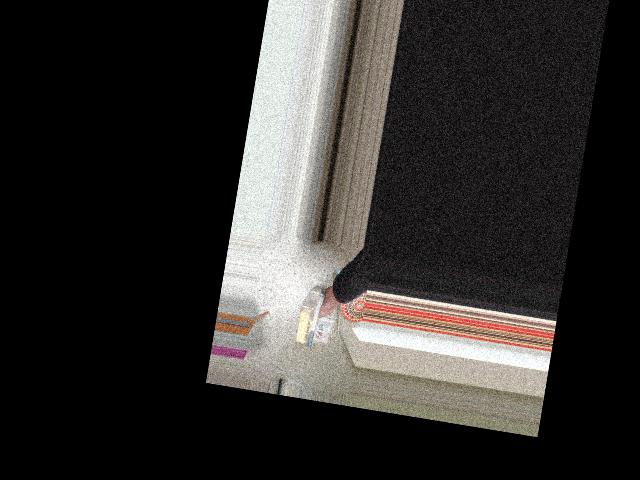cheese: (287, 284, 337, 351)
